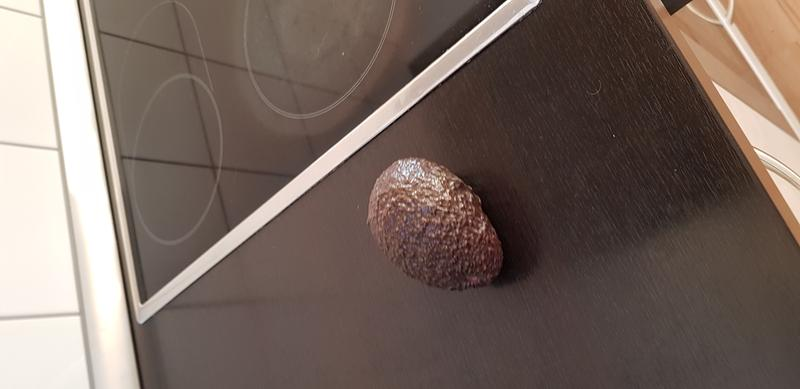Avocado: (359, 148, 518, 297)
